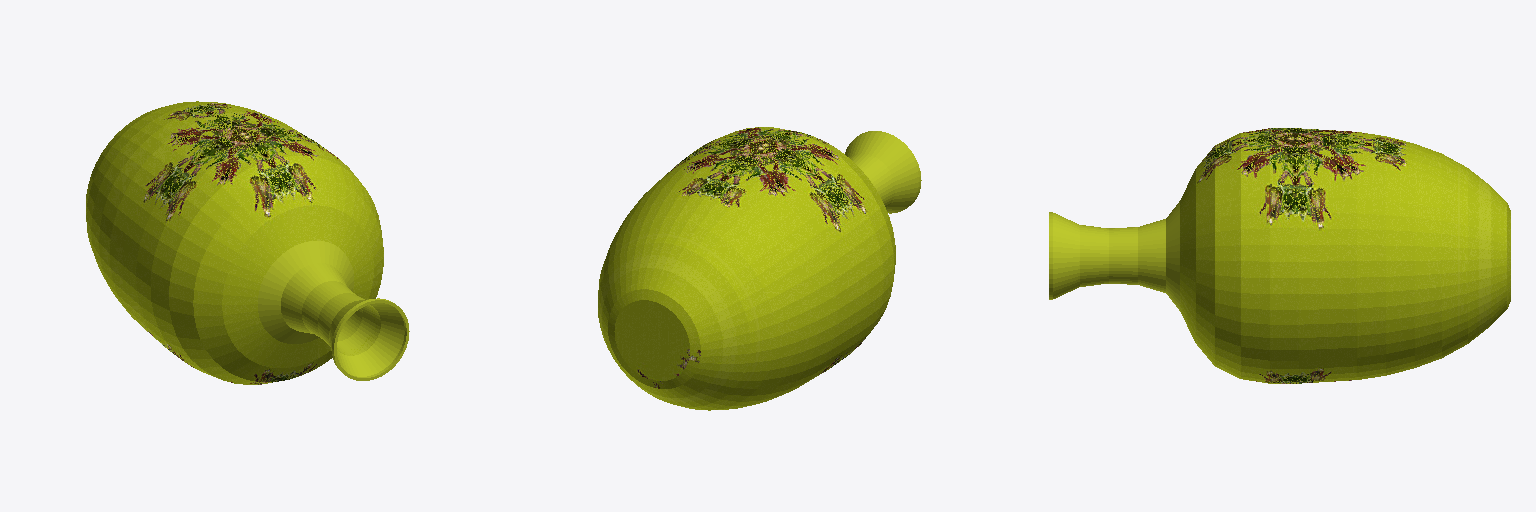
3 views of the same model, side by side, from view 1: azimuth 30°, elevation 25°; view 2: azimuth 150°, elevation 25°; view 3: azimuth 270°, elevation 25° (orthographic).
Bounding box in the file's own units: 0.0746 × 0.0746 × 0.1351.
Materials: 5 (2 with a texture image).